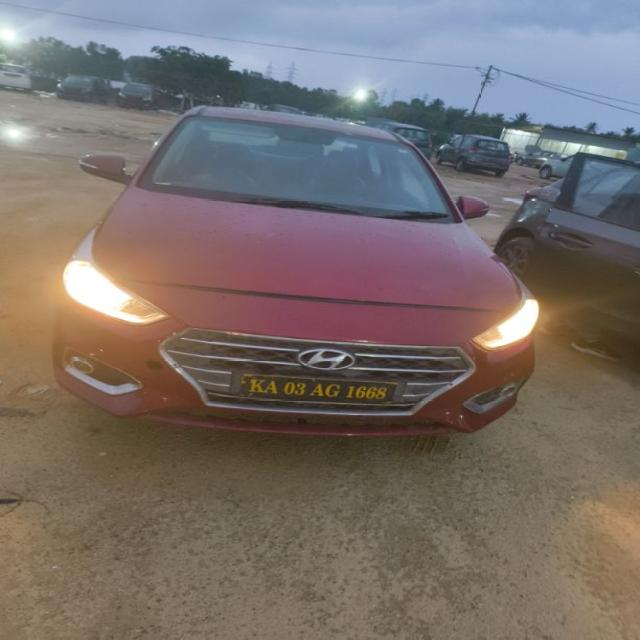license_plate: (233, 372, 404, 405)
